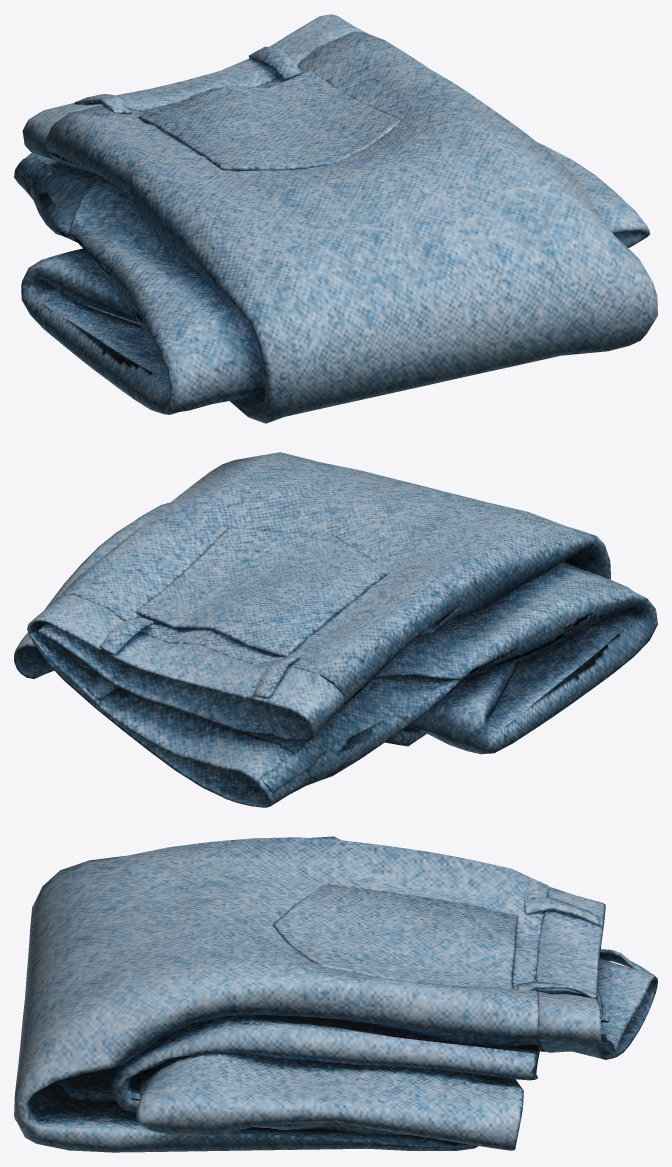
File: Product_BottomA_0.4x0.1x0.4.glb
3 renders of one model, top to bottom at view 1: azimuth 30°, elevation 25°; view 2: azimuth 150°, elevation 25°; view 3: azimuth 270°, elevation 25°, orthographic. The views are drawn at different scales.
Visible parts, largest first — view 1: Jeans_Baked; view 2: Jeans_Baked; view 3: Jeans_Baked.
Boxes of the visible parts, x1,y1,x2,y2 form: Jeans_Baked: [14, 14, 657, 423]; Jeans_Baked: [14, 452, 657, 807]; Jeans_Baked: [14, 836, 657, 1152].
Size of the model in its own units: 0.311 by 0.0978 by 0.3424.
1 material, 1 textured.
